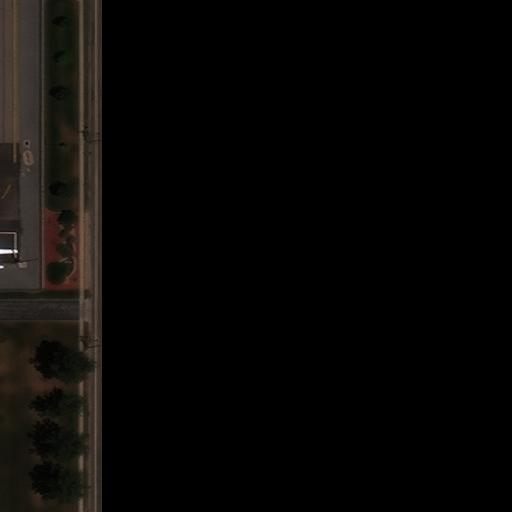Small Civil Transport: (0, 240, 17, 265)
